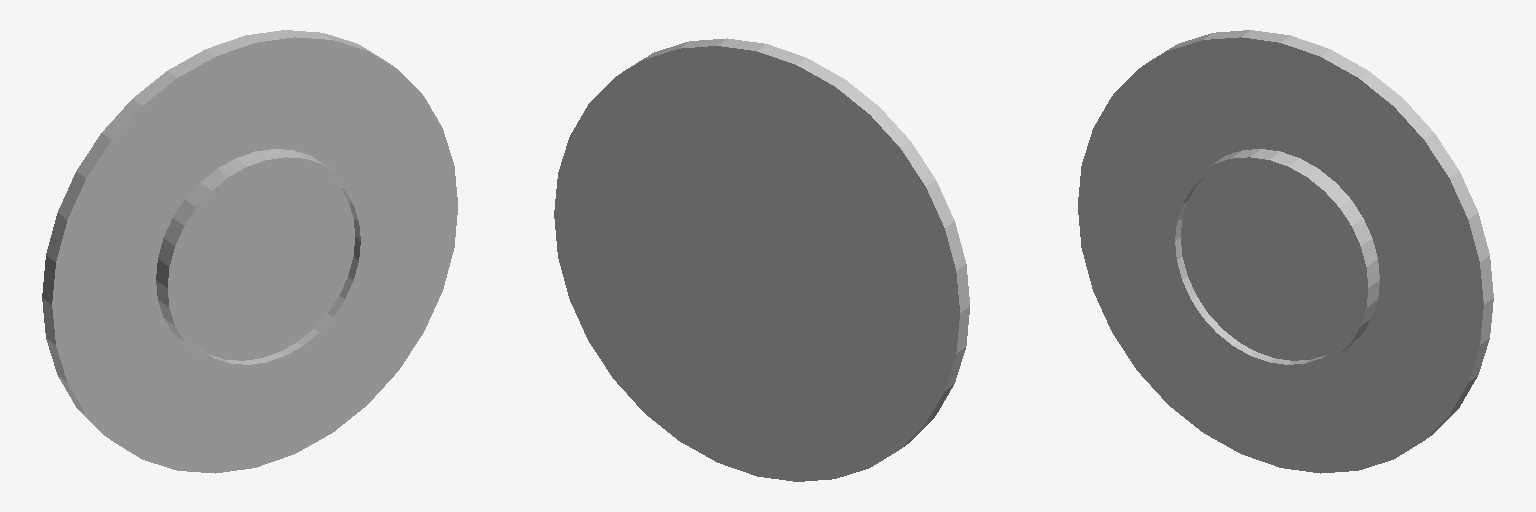
File: Stop Button 03.obj
3 renders of one model, left to right at view 1: azimuth 30°, elevation 25°; view 2: azimuth 150°, elevation 25°; view 3: azimuth 330°, elevation 25°, orthographic.
Visible parts, largest first — view 1: stand_Cylinder.001; view 2: stand_Cylinder.001; view 3: stand_Cylinder.001.
Part boxes in pixels (bbox=[...]): stand_Cylinder.001: bbox=[42, 30, 457, 473]; stand_Cylinder.001: bbox=[554, 38, 969, 481]; stand_Cylinder.001: bbox=[1078, 30, 1493, 473].
Size of the model in its own units: 2 by 2 by 0.1851.